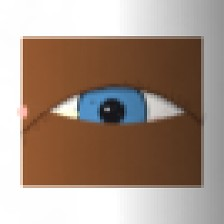pinguecula_lesion: (41, 94, 92, 135)
